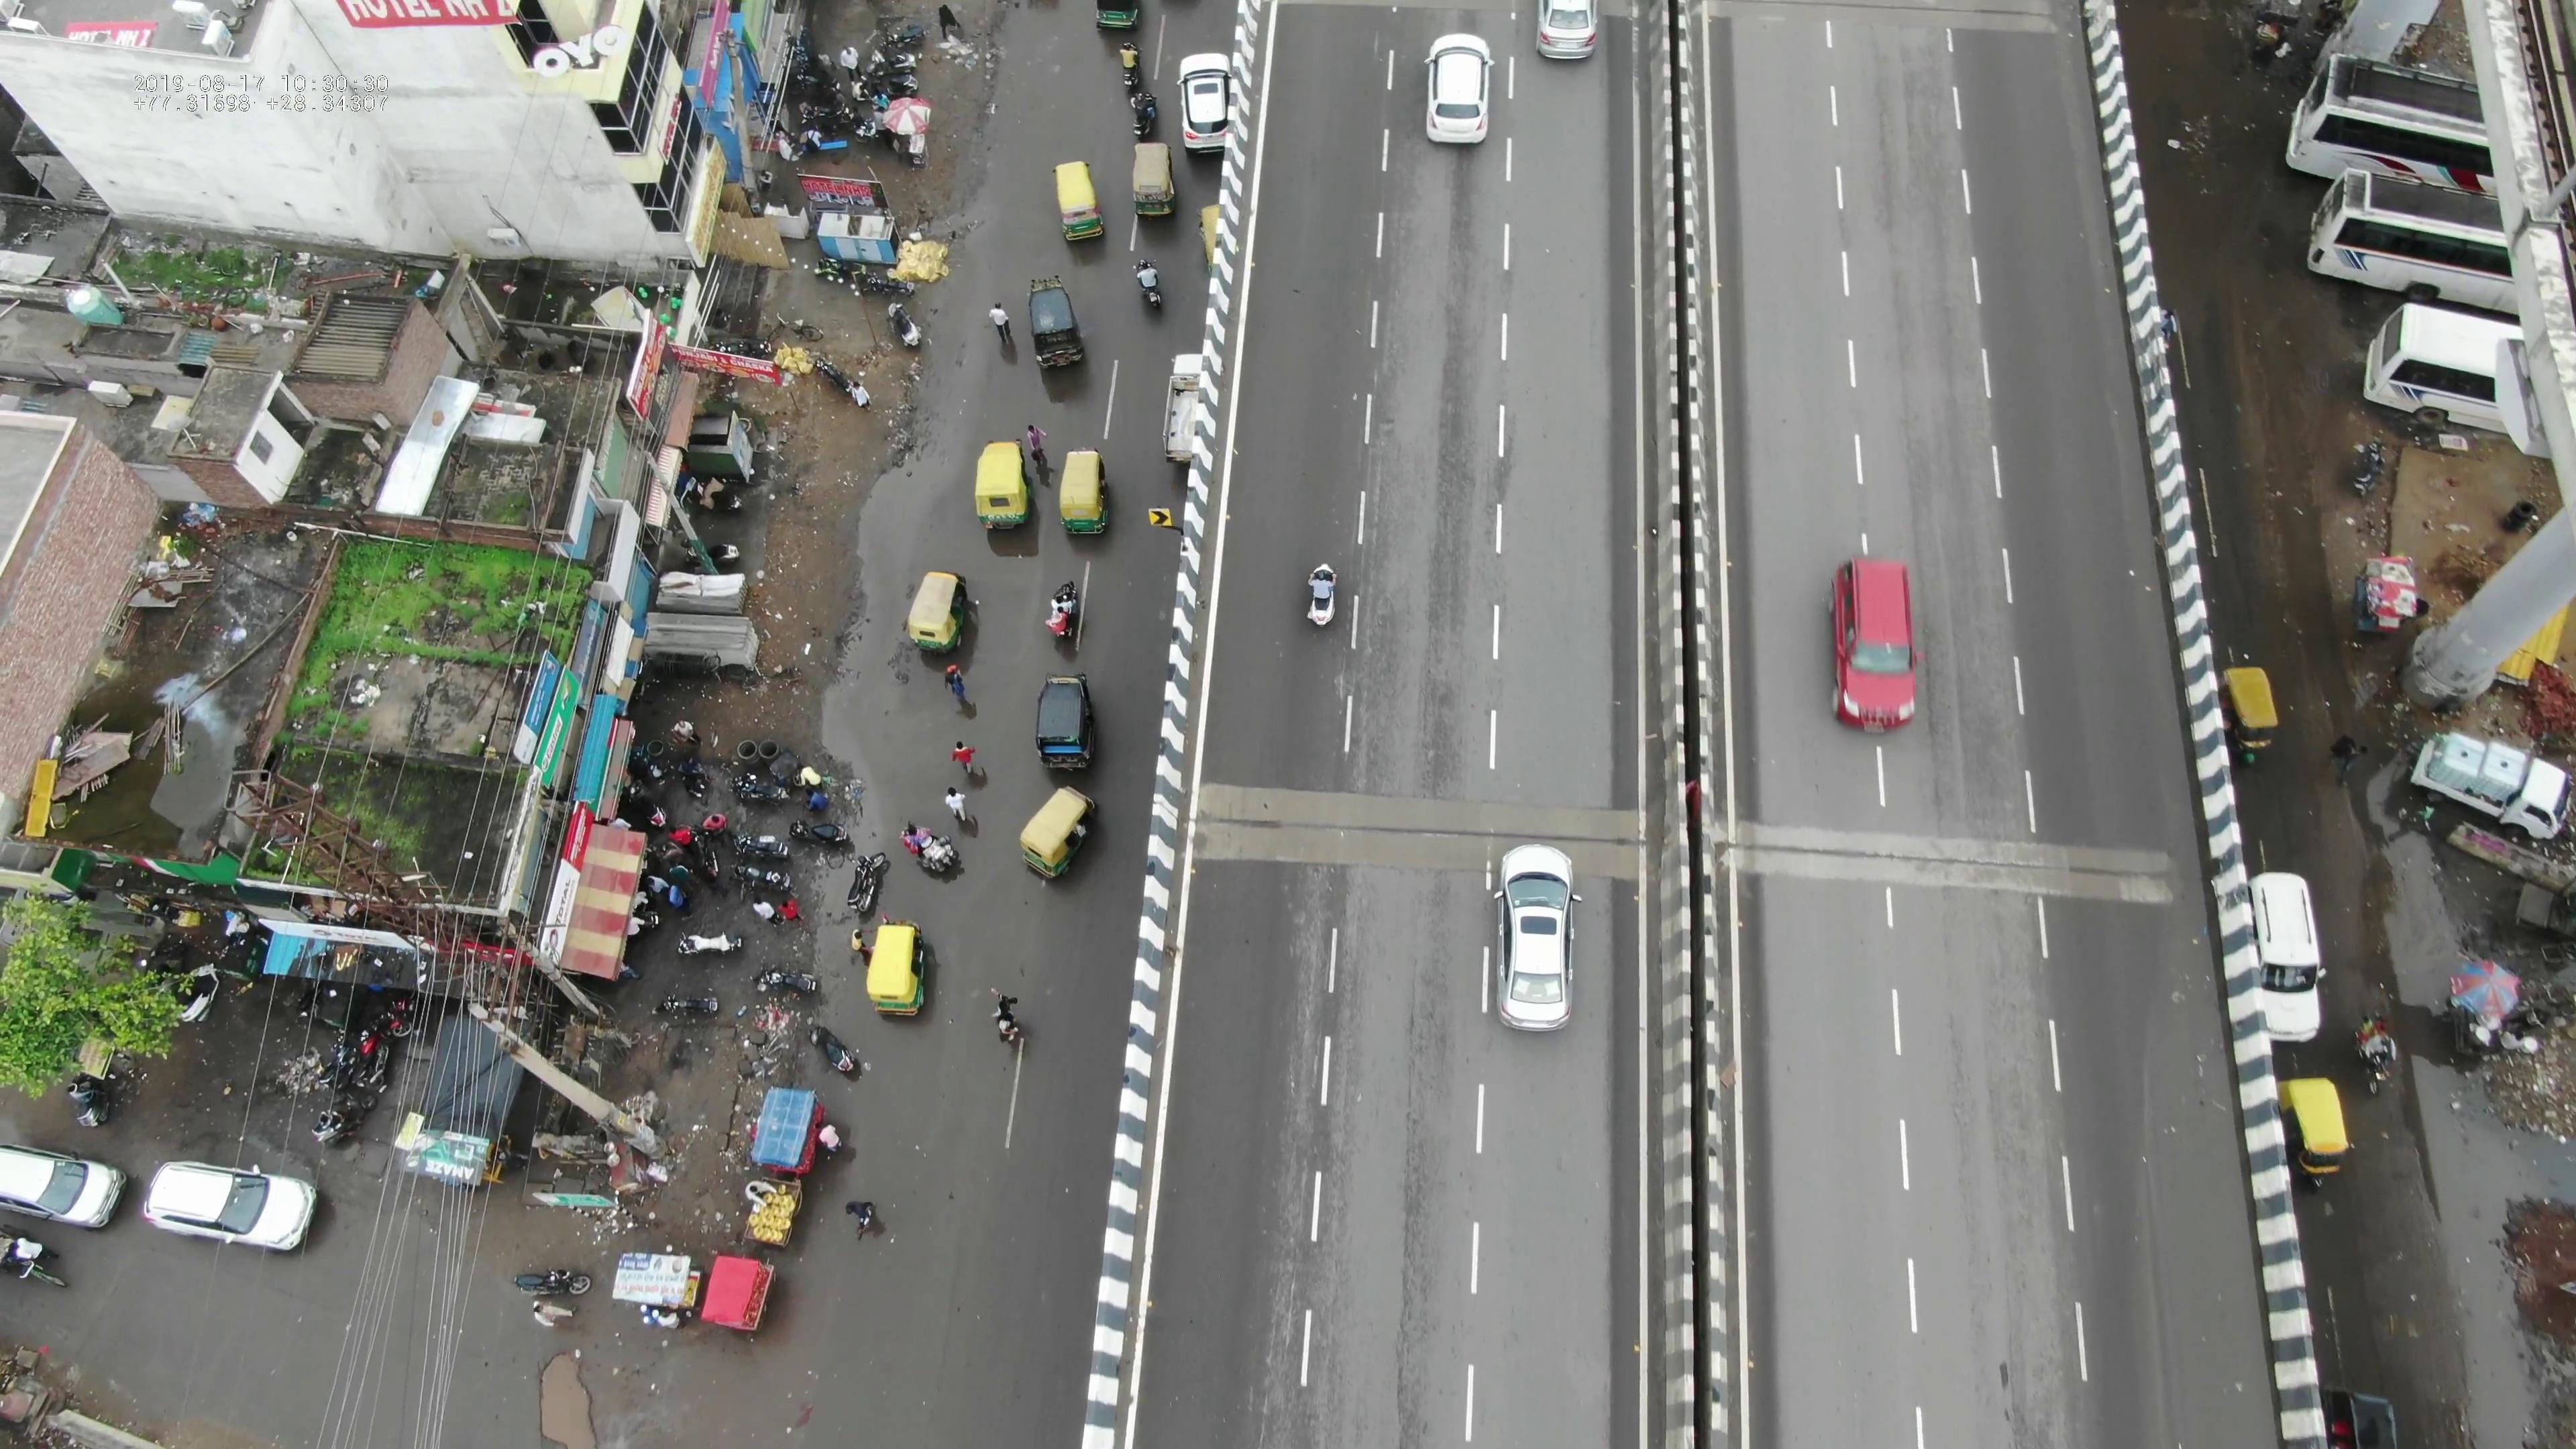Potholes: (515, 1336, 639, 1438)
Waterlogging: (2388, 844, 2567, 1435), (816, 421, 934, 750)
